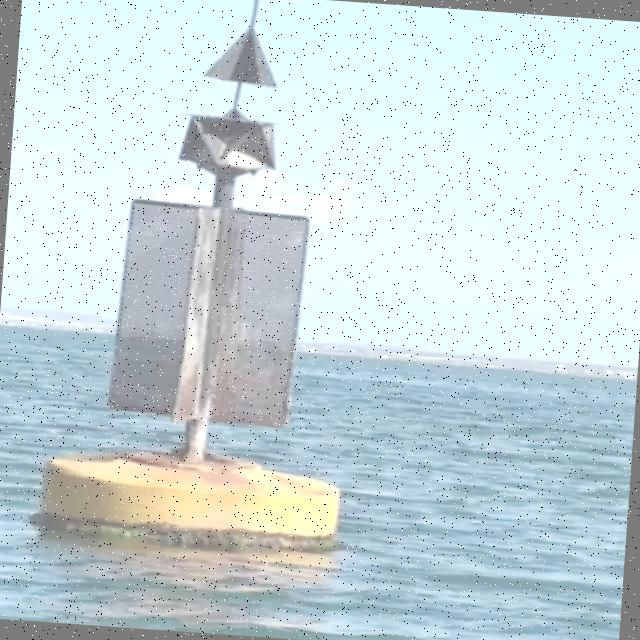marque: (34, 1, 378, 555)
